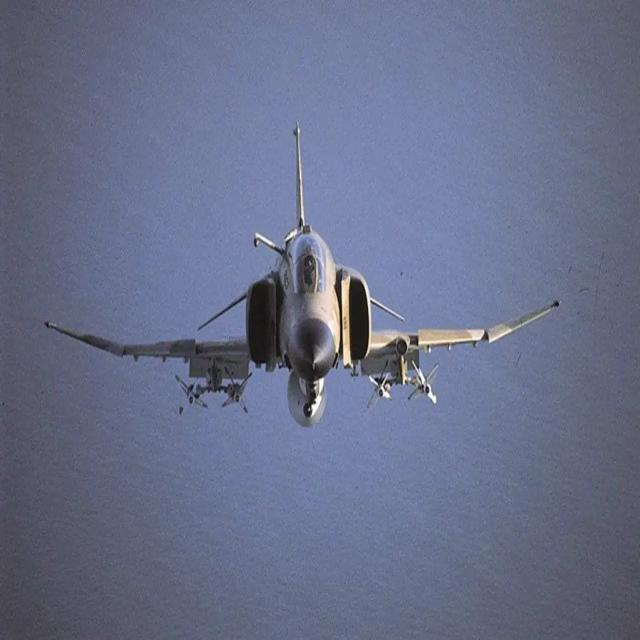MIL_Plane: (43, 120, 561, 428)
